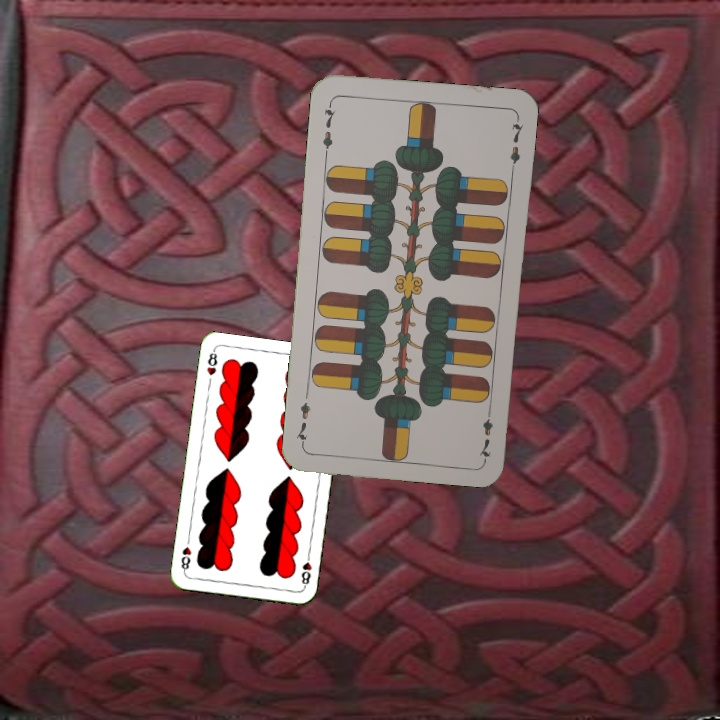E7: (318, 98, 338, 157), (475, 402, 495, 461)
H8: (297, 549, 314, 590), (203, 346, 220, 378)
